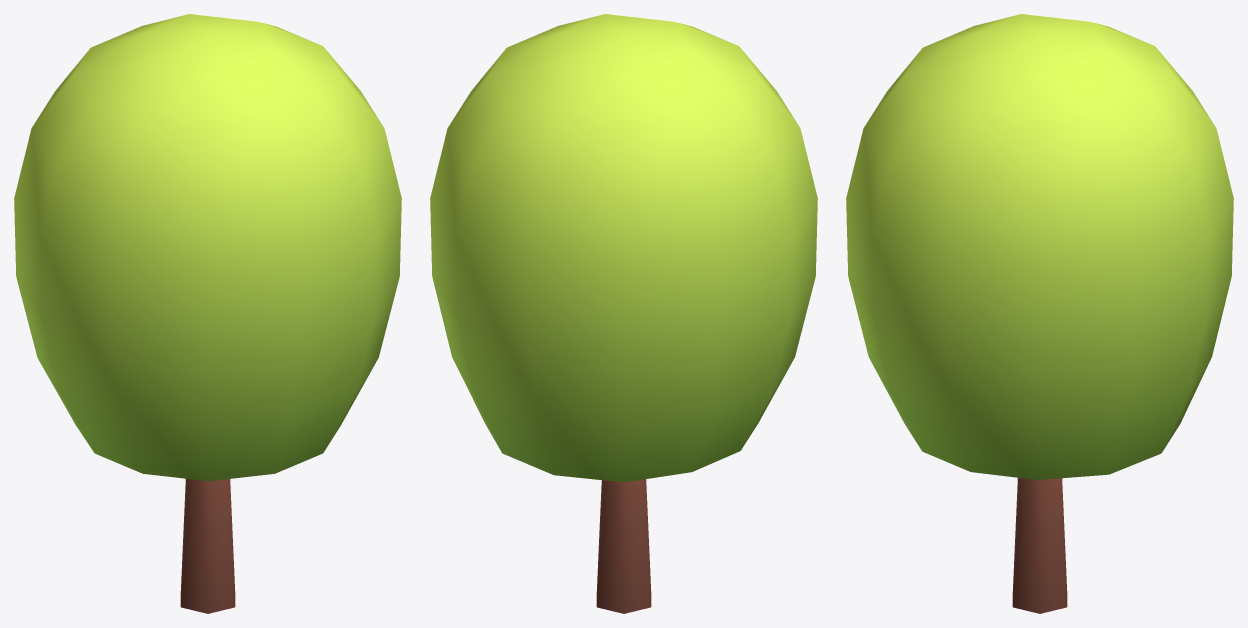
Rendered from city2-tree-04.glb.
3 views of the same model, side by side, from view 1: azimuth 30°, elevation 25°; view 2: azimuth 150°, elevation 25°; view 3: azimuth 270°, elevation 25° (orthographic).
Visible parts, largest first — view 1: Tree_04; view 2: Tree_04; view 3: Tree_04.
Boxes of the visible parts, bbox=[...] form: Tree_04: bbox=[14, 14, 401, 613]; Tree_04: bbox=[430, 14, 817, 613]; Tree_04: bbox=[846, 14, 1233, 613].
Bounding box in the file's own units: 3.49 × 5.65 × 3.49.
1 material, 1 textured.
